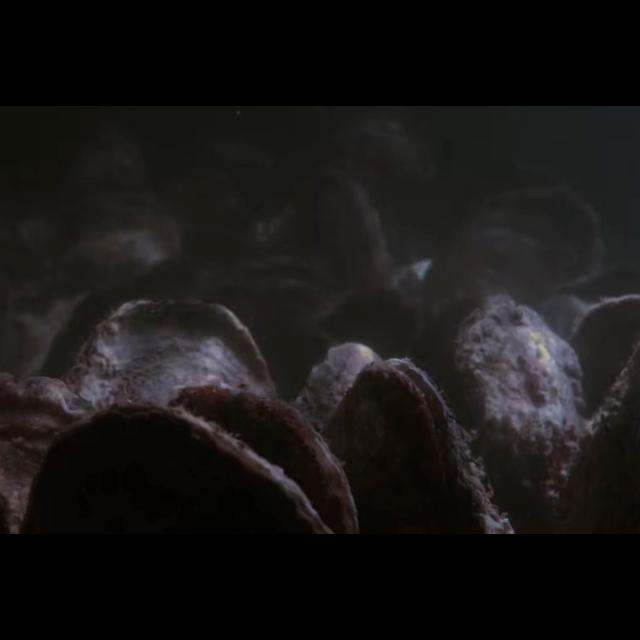Oyster-Closed: (61, 298, 277, 534), (20, 404, 332, 534), (444, 298, 590, 534), (168, 382, 358, 534), (417, 183, 605, 325), (290, 342, 386, 534), (0, 372, 98, 534), (302, 168, 398, 292), (54, 198, 180, 288), (570, 295, 640, 431)
Oyster-Open: (322, 357, 516, 535), (215, 256, 332, 300)
